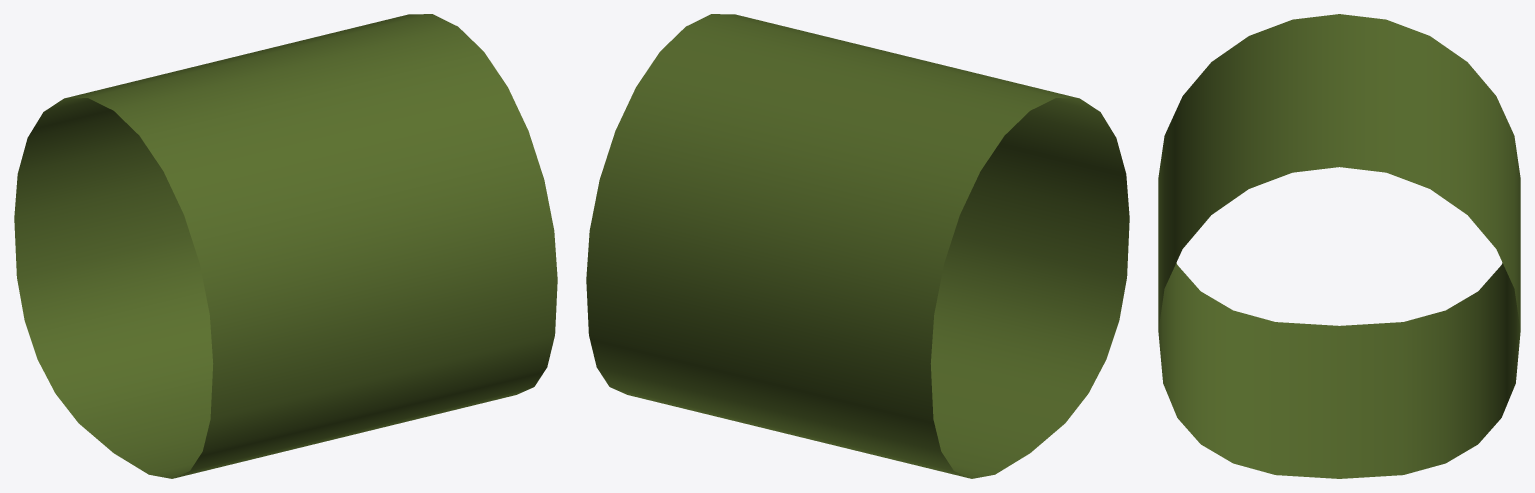
File: SM_SnakeBody.glb
The picture shows the model from 3 angles, left to right: view 1: azimuth 30°, elevation 25°; view 2: azimuth 150°, elevation 25°; view 3: azimuth 270°, elevation 25°; orthographic projection. The views are drawn at different scales.
Visible parts, largest first — view 1: SM_SnakeBody; view 2: SM_SnakeBody; view 3: SM_SnakeBody.
Boxes of the visible parts, box(x1,y1,x2,y2) form: SM_SnakeBody: box(14, 14, 557, 478); SM_SnakeBody: box(586, 14, 1129, 478); SM_SnakeBody: box(1158, 14, 1520, 478).
Size of the model in its own units: 1 by 0.95 by 1.
